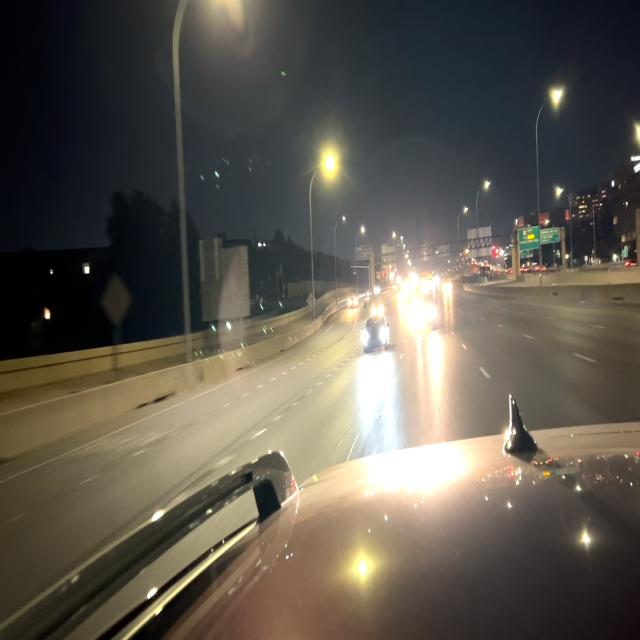back-of-sign: (103, 271, 131, 328), (465, 225, 494, 261), (380, 241, 399, 267)
